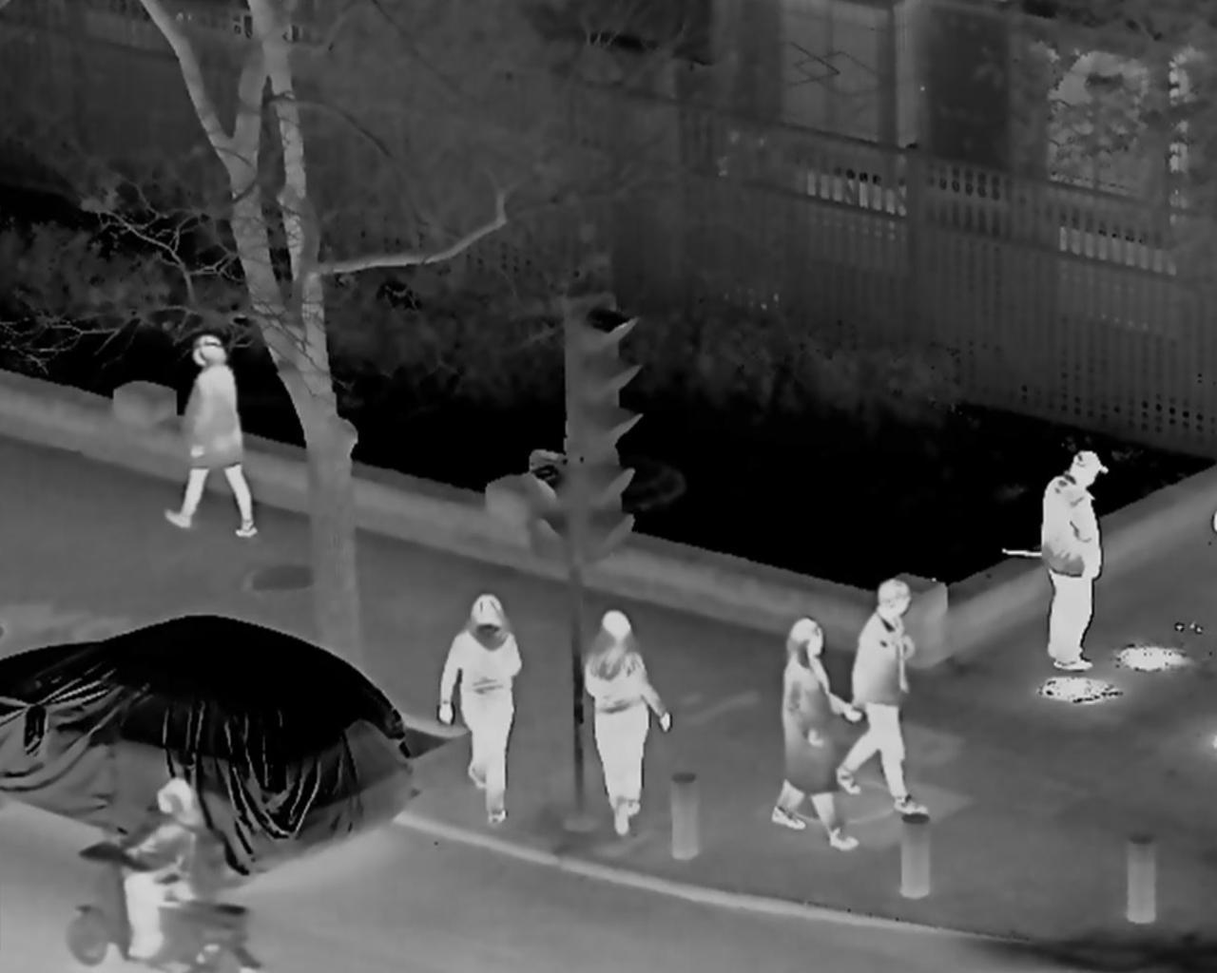person: (839, 580, 929, 821), (439, 595, 521, 830), (774, 619, 855, 849), (584, 610, 668, 830), (167, 336, 258, 536), (116, 780, 217, 960), (1042, 448, 1108, 670)
